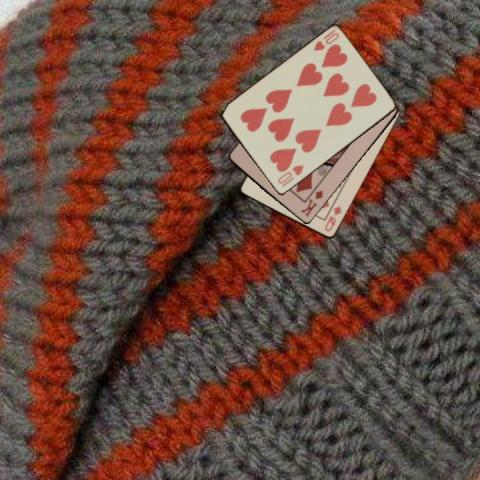10h: (275, 162, 305, 189), (310, 26, 341, 52)
Kd: (298, 187, 325, 219)
Qd: (322, 203, 344, 233)
